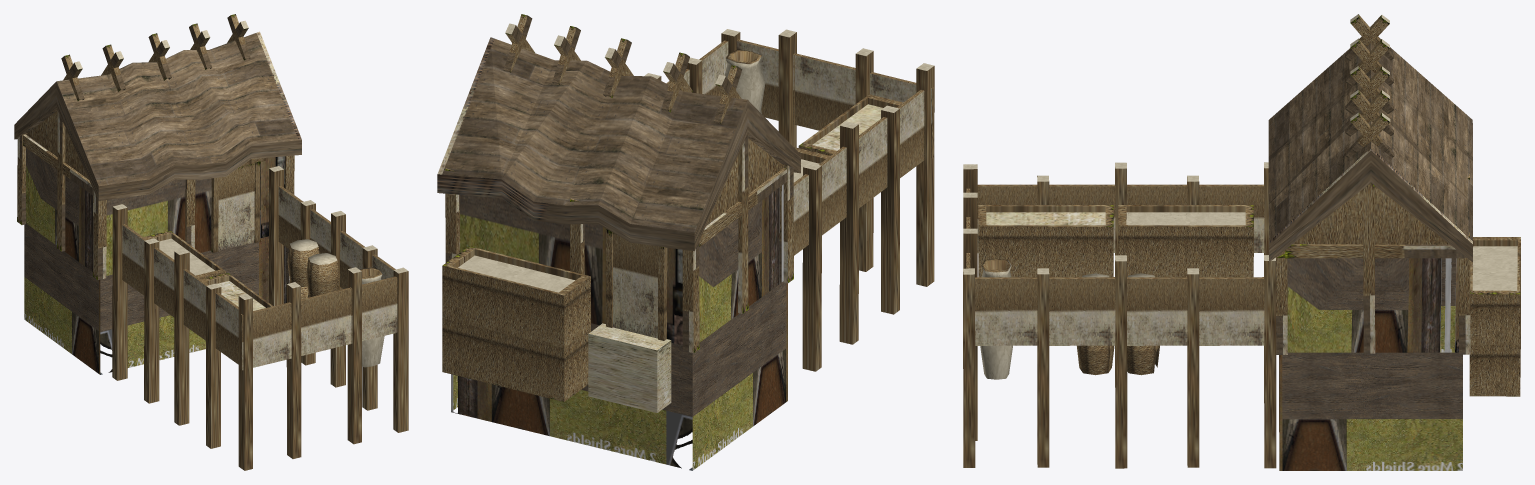
The model's file is corral.dae.
3 renders of one model, left to right at view 1: azimuth 30°, elevation 25°; view 2: azimuth 150°, elevation 25°; view 3: azimuth 270°, elevation 25°, orthographic. The views are drawn at different scales.
Parts seen in each view (by area): view 1: corral; view 2: corral; view 3: corral.
Part boxes in pixels (bbox=[...]): corral: bbox=[14, 14, 408, 470]; corral: bbox=[437, 14, 934, 470]; corral: bbox=[963, 14, 1520, 470].
Size of the model in its own units: 10.75 by 21.03 by 14.68.
